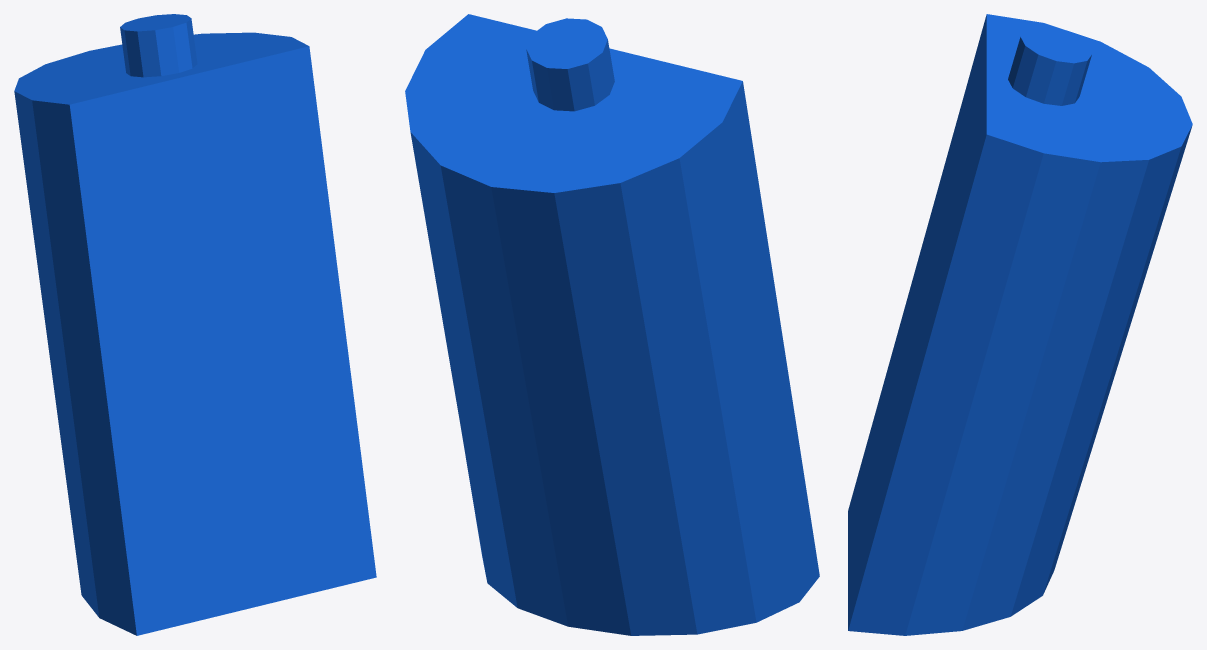
Rendered from BatteryIndicator.fbx.
3 renders of one model, left to right at view 1: azimuth 30°, elevation 25°; view 2: azimuth 150°, elevation 25°; view 3: azimuth 270°, elevation 25°, orthographic. The views are drawn at different scales.
Parts seen in each view (by area): view 1: 柱体; view 2: 柱体; view 3: 柱体.
Boxes of the visible parts, left/top/right/bottom form: 柱体: left=14, top=14, right=376, bottom=635; 柱体: left=405, top=14, right=819, bottom=635; 柱体: left=848, top=14, right=1192, bottom=635.
Size of the model in its own units: 2 by 3.82 by 2.23.
